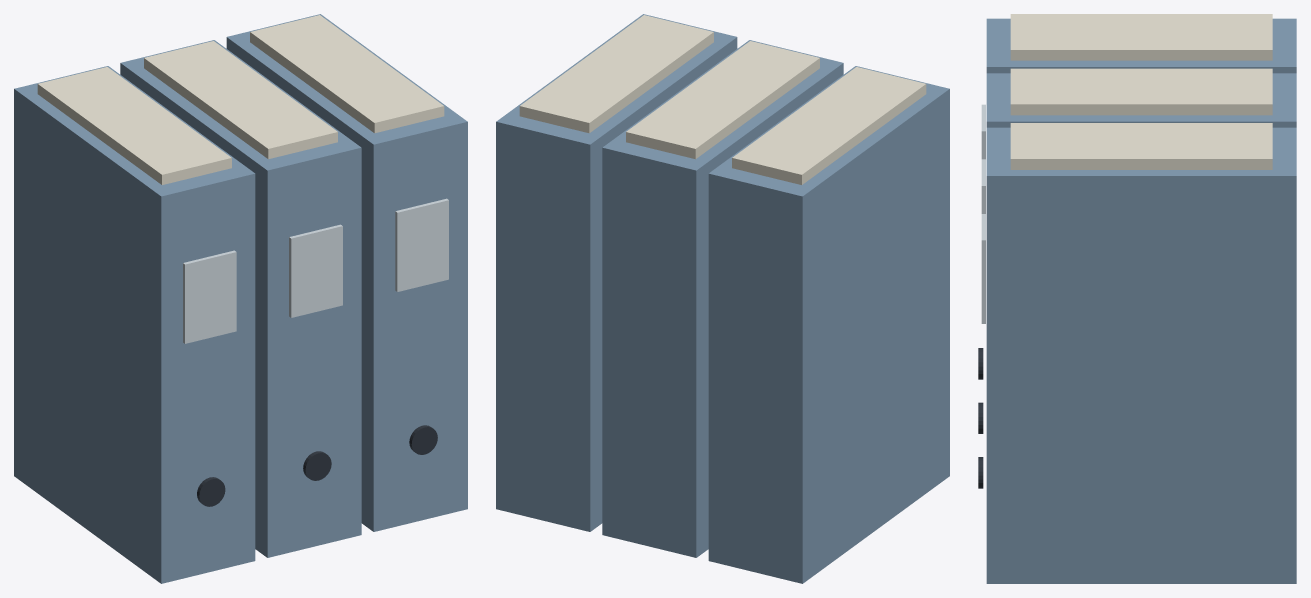
Rendered from project-binders.glb.
3 renders of one model, left to right at view 1: azimuth 30°, elevation 25°; view 2: azimuth 150°, elevation 25°; view 3: azimuth 270°, elevation 25°, orthographic. The views are drawn at different scales.
Parts seen in each view (by area): view 1: Project binder 0, Project binder 2, Project binder 1, Paper block 2, Paper block 0, Paper block 1, Spine label 2, Spine label 0, Spine label 1, Cylinder.001, Cylinder.002, Cylinder; view 2: Project binder 0, Project binder 2, Project binder 1, Paper block 2, Paper block 0, Paper block 1; view 3: Project binder 2, Paper block 1, Paper block 0, Paper block 2, Project binder 0, Project binder 1, Spine label 2.
Boxes of the visible parts, <box> form: Project binder 0: <box>14,66,255,583</box>; Project binder 2: <box>226,14,467,531</box>; Project binder 1: <box>120,40,361,557</box>; Paper block 2: <box>250,15,444,133</box>; Paper block 0: <box>37,67,231,184</box>; Paper block 1: <box>144,41,337,159</box>; Spine label 2: <box>395,198,448,291</box>; Spine label 0: <box>183,250,236,343</box>; Spine label 1: <box>289,224,342,317</box>; Cylinder.001: <box>303,451,331,480</box>; Cylinder.002: <box>409,425,437,454</box>; Cylinder: <box>197,477,225,506</box>; Project binder 0: <box>708,66,949,583</box>; Project binder 2: <box>496,14,737,531</box>; Project binder 1: <box>602,40,843,557</box>; Paper block 2: <box>519,15,713,133</box>; Paper block 0: <box>732,67,926,184</box>; Paper block 1: <box>626,41,819,159</box>; Project binder 2: <box>986,127,1296,583</box>; Paper block 1: <box>1010,68,1272,115</box>; Paper block 0: <box>1010,14,1272,60</box>; Paper block 2: <box>1010,123,1272,169</box>; Project binder 0: <box>986,18,1296,73</box>; Project binder 1: <box>986,73,1296,127</box>; Spine label 2: <box>981,214,985,323</box>.
Bounding box in the file's own units: 1.01 × 1.25 × 0.863.
